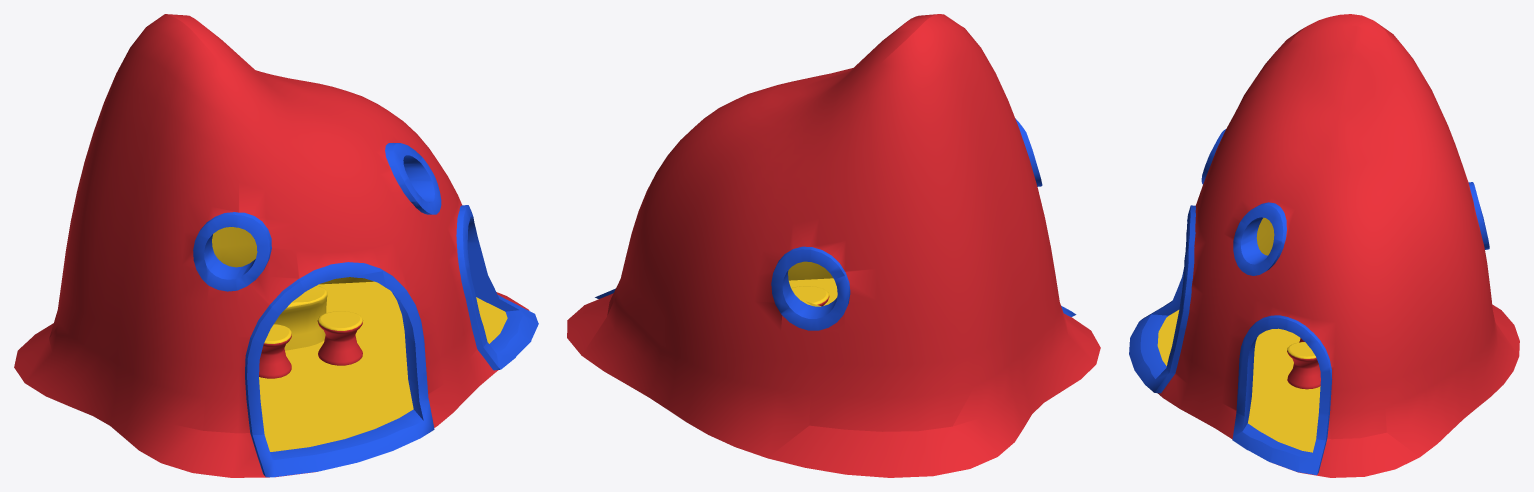
The model's file is adobe_02_high_shoulder.glb.
The picture shows the model from 3 angles, left to right: view 1: azimuth 30°, elevation 25°; view 2: azimuth 150°, elevation 25°; view 3: azimuth 270°, elevation 25°; orthographic projection. The views are drawn at different scales.
Visible parts, largest first — view 1: 02 • High Shoulder, 02 • Wall-grown curved counter, 02 • Plateau seat 3, 02 • Plateau seat 2; view 2: 02 • High Shoulder, 02 • Plateau seat 3; view 3: 02 • High Shoulder, 02 • Plateau seat 3.
Boxes of the visible parts, <box> form: 02 • High Shoulder: <box>14,14,538,477</box>; 02 • Wall-grown curved counter: <box>274,285,327,350</box>; 02 • Plateau seat 3: <box>317,311,362,365</box>; 02 • Plateau seat 2: <box>259,324,291,378</box>; 02 • High Shoulder: <box>567,14,1100,477</box>; 02 • Plateau seat 3: <box>791,286,829,306</box>; 02 • High Shoulder: <box>1129,14,1519,477</box>; 02 • Plateau seat 3: <box>1287,342,1320,389</box>.
Bounding box in the file's own units: 6.7 × 5.18 × 5.75.
